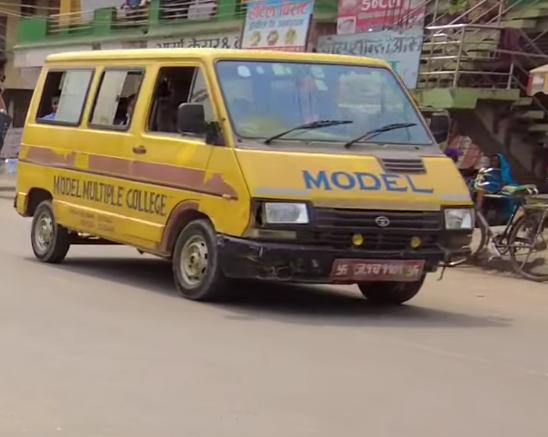school_bus: (13, 38, 476, 322)
